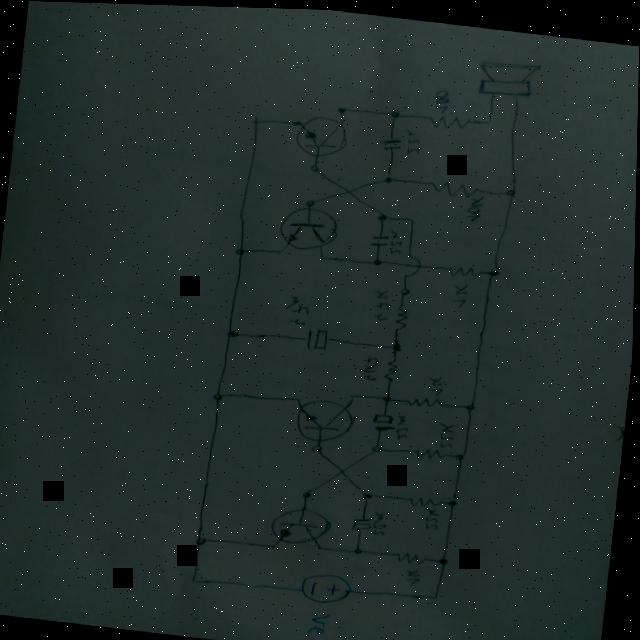capacitor: (306, 325, 329, 350), (372, 410, 397, 431), (352, 514, 373, 531), (378, 135, 402, 149), (370, 232, 390, 245)
crossover: (402, 249, 422, 277), (335, 462, 352, 476), (342, 185, 359, 196)
junction: (226, 326, 239, 338), (487, 265, 501, 276), (195, 534, 208, 545), (388, 107, 401, 118), (190, 574, 203, 584), (376, 210, 389, 220), (503, 184, 516, 194), (311, 442, 324, 451), (371, 255, 384, 264), (303, 197, 316, 206), (307, 162, 320, 171), (335, 103, 348, 112), (439, 553, 450, 563), (372, 441, 383, 451), (465, 399, 476, 409), (400, 284, 411, 294), (382, 171, 393, 181), (249, 115, 260, 125), (483, 114, 494, 124), (362, 489, 374, 498), (391, 340, 403, 349), (212, 391, 225, 399), (449, 496, 460, 505), (353, 544, 364, 553), (273, 245, 284, 254), (302, 489, 314, 497), (456, 450, 466, 459), (382, 392, 393, 400), (405, 214, 416, 222), (293, 392, 302, 400), (316, 252, 325, 260), (432, 591, 441, 598), (235, 246, 244, 253), (317, 543, 325, 550), (270, 541, 278, 548), (348, 390, 356, 397)
resistor: (428, 176, 479, 197), (427, 109, 471, 129), (415, 443, 450, 461), (407, 392, 444, 407), (448, 261, 484, 276), (396, 548, 430, 563), (409, 493, 443, 507), (393, 303, 410, 330), (383, 355, 399, 380)
source: (299, 568, 355, 605)
text: (282, 293, 312, 325), (369, 285, 393, 320), (309, 608, 332, 634), (465, 191, 484, 221), (402, 126, 422, 153), (437, 418, 455, 447), (431, 86, 450, 113), (362, 353, 380, 379), (451, 280, 469, 306), (387, 226, 404, 252), (423, 505, 442, 528), (428, 372, 446, 394), (396, 411, 410, 438), (374, 509, 388, 535), (405, 565, 422, 584)
transistor: (276, 202, 341, 252), (295, 396, 357, 444), (292, 110, 350, 159), (269, 504, 333, 546)
